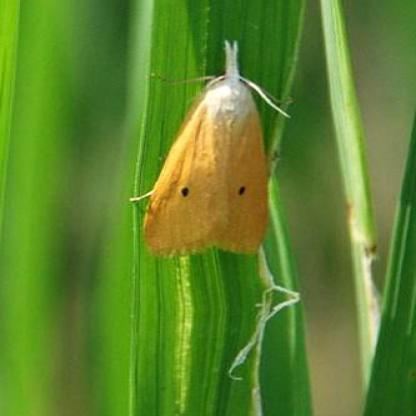stem-borer: (127, 36, 290, 262)
